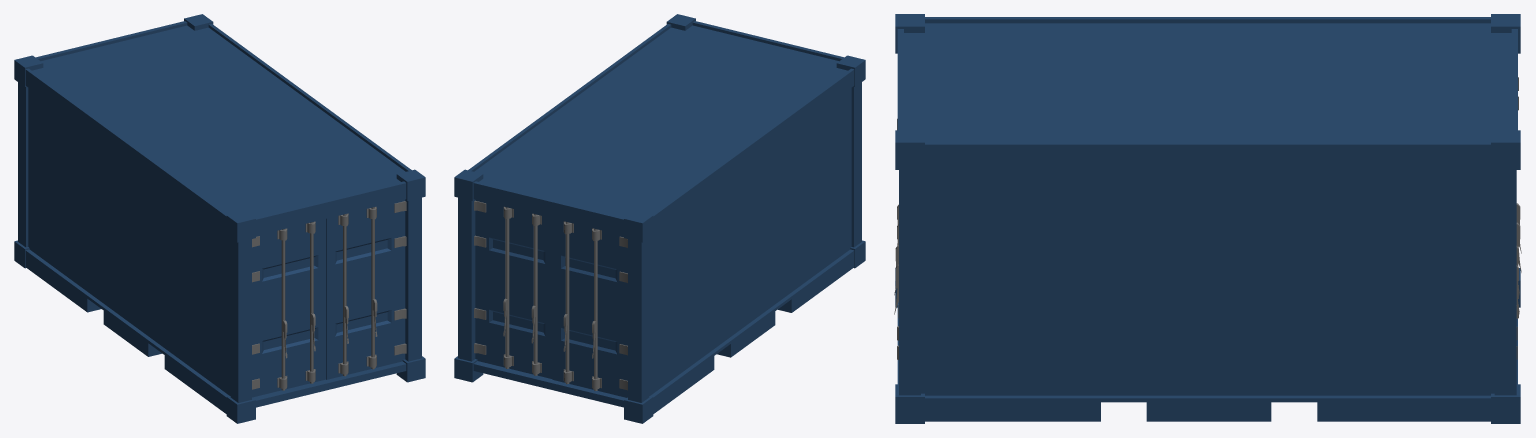
File: shipping container 2.0.fbx
3 views of the same model, side by side, from view 1: azimuth 30°, elevation 25°; view 2: azimuth 150°, elevation 25°; view 3: azimuth 270°, elevation 25° (orthographic). The views are drawn at different scales.
Visible parts, largest first — view 1: polySurface105, polySurface157, polySurface114; view 2: polySurface105, polySurface159, polySurface158; view 3: polySurface105.
Boxes of the visible parts, x1,y1,x2,y2 form: polySurface105: [14, 14, 425, 423]; polySurface157: [326, 199, 406, 379]; polySurface114: [252, 219, 326, 397]; polySurface105: [454, 14, 865, 423]; polySurface159: [474, 199, 552, 379]; polySurface158: [552, 218, 627, 397]; polySurface105: [895, 14, 1520, 423].
Bounding box in the file's own units: 10 × 10.18 × 20.58.
